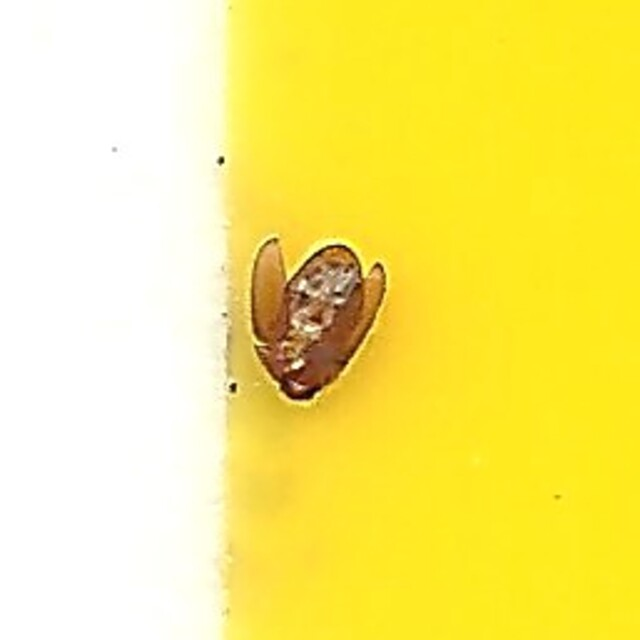Coleoptera: (249, 234, 391, 406)
